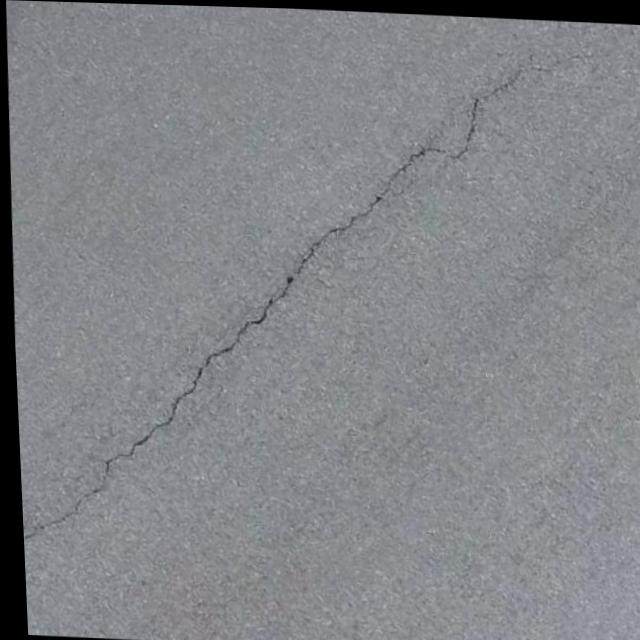Crack: (309, 46, 518, 245), (14, 374, 207, 542), (208, 211, 352, 395)
